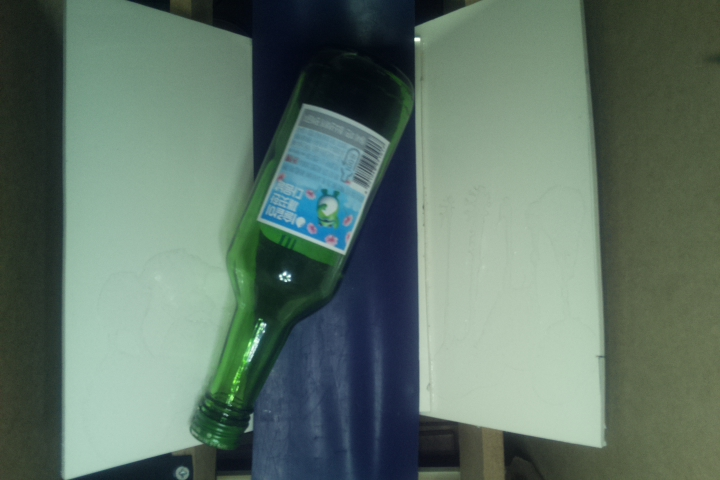soju: (187, 47, 413, 460)
